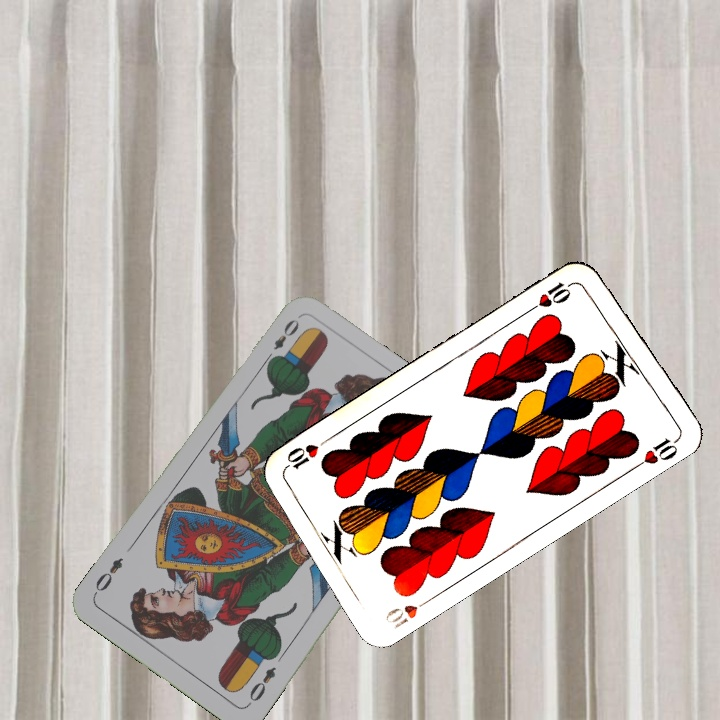EO: (261, 315, 302, 366), (243, 662, 279, 708)
H10: (380, 592, 436, 630), (525, 277, 579, 314)
